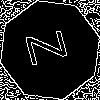Z: (25, 25, 77, 67)
